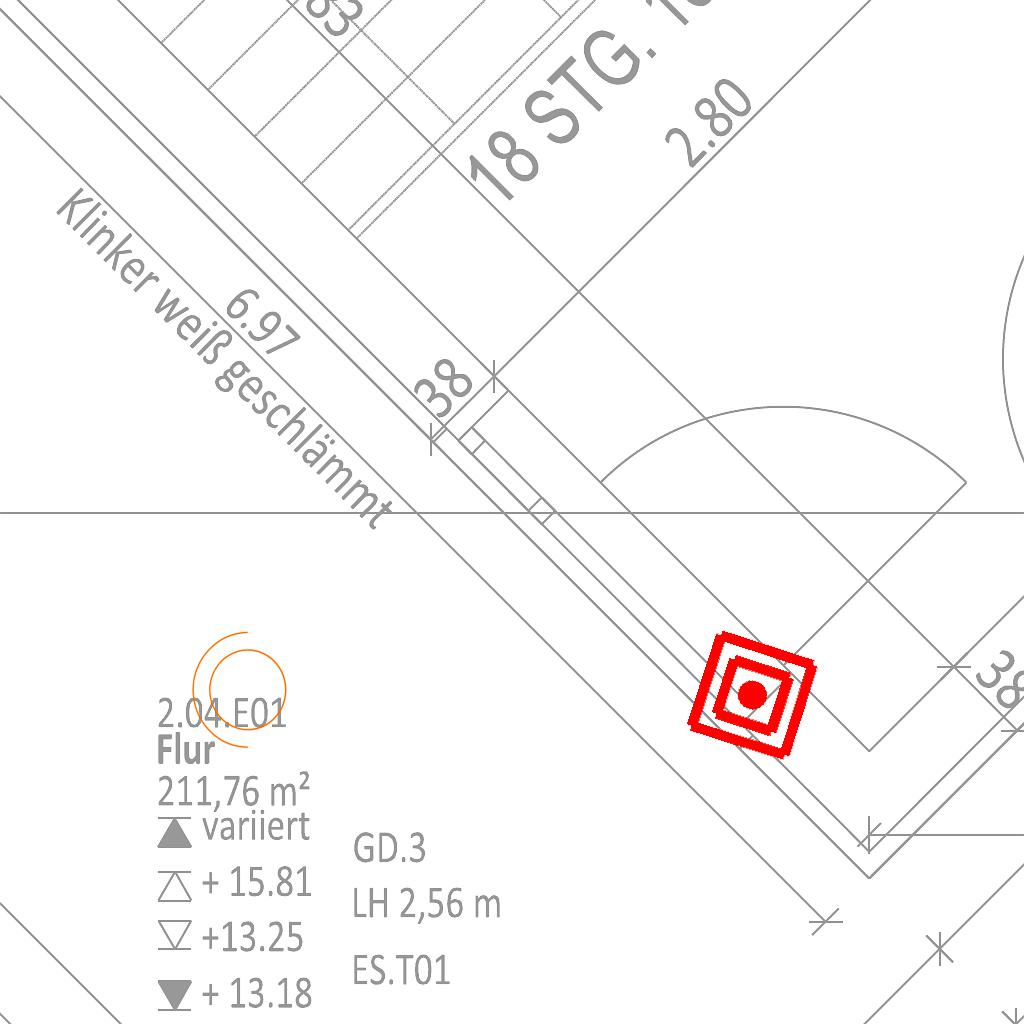NAM-Nichtautomatischer_Melder: (681, 624, 824, 767)
Scheinwerfer_fuer_Alarmbeleuchtung: (187, 627, 299, 759)
